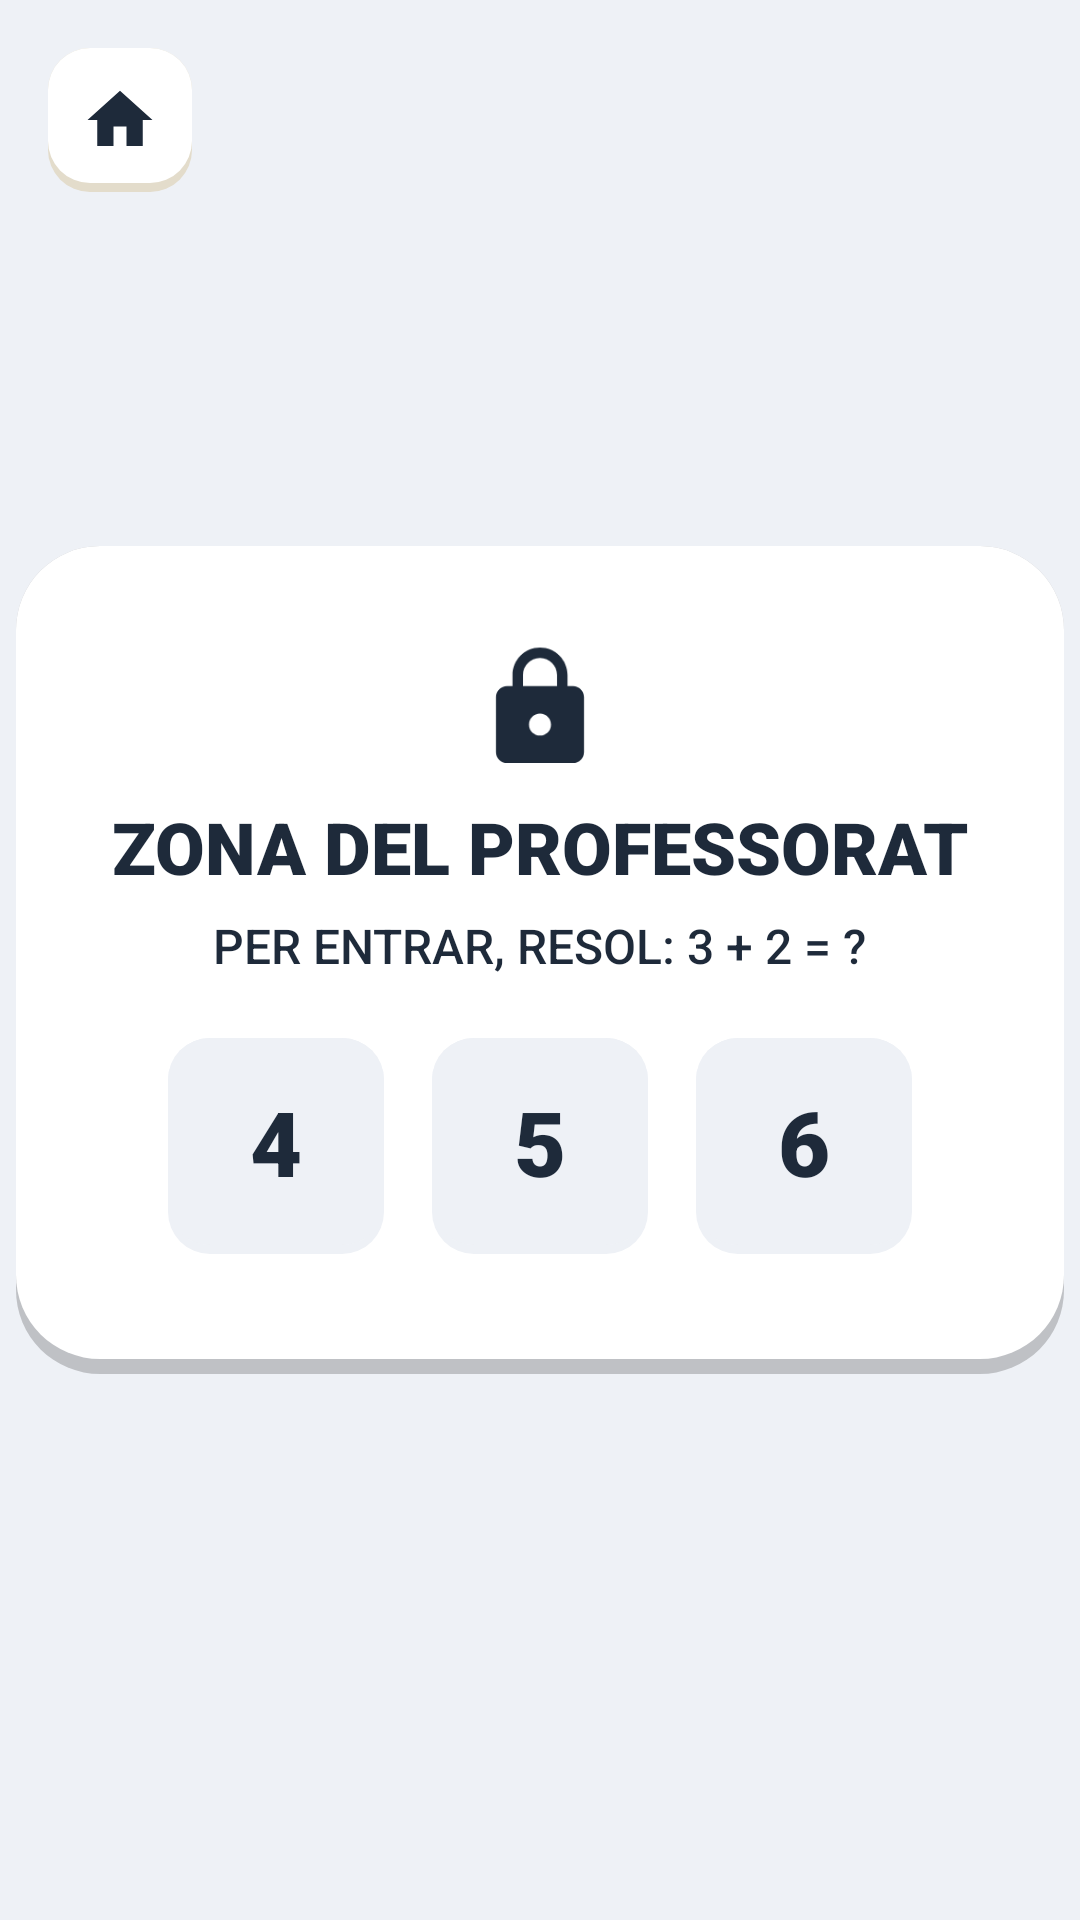

Locate icon controls on the screen. Image size 1080px×1920px, boxes as (x1, y1, x2, y2).
Inici: (48, 48, 192, 192)
lock: (495, 647, 585, 763)
